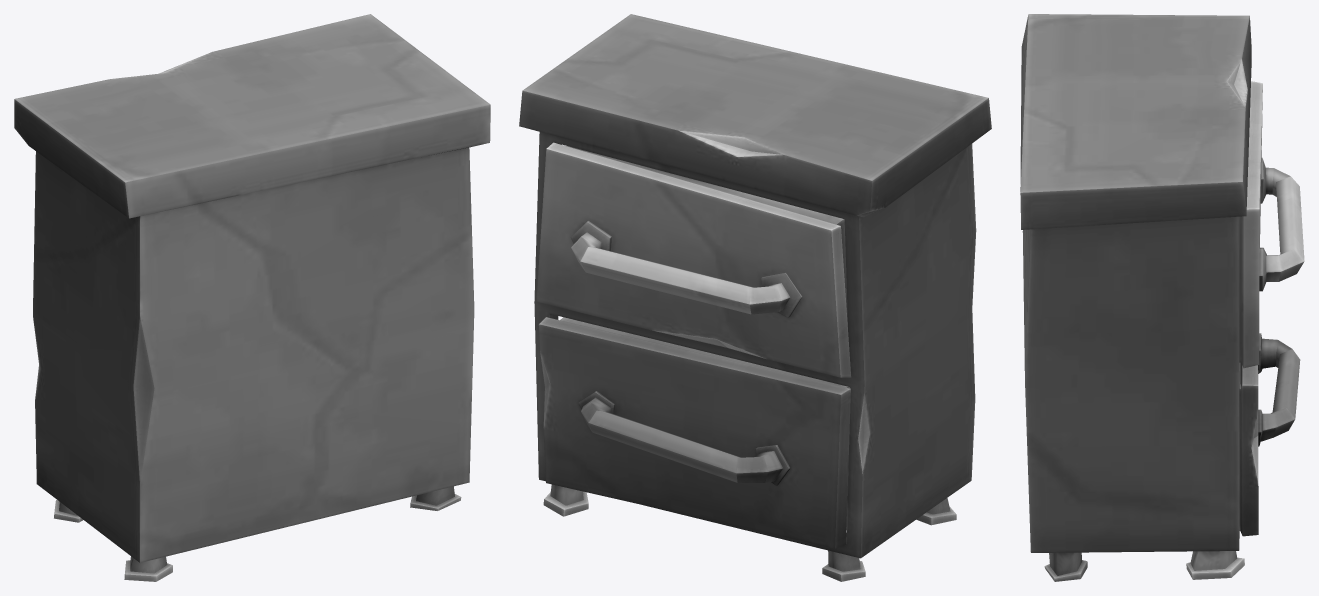
File: obj_dresser01_alt.gltf
3 renders of one model, left to right at view 1: azimuth 30°, elevation 25°; view 2: azimuth 150°, elevation 25°; view 3: azimuth 270°, elevation 25°, orthographic. The views are drawn at different scales.
Visible parts, largest first — view 1: obj_dresser01_alt; view 2: obj_dresser01_alt; view 3: obj_dresser01_alt.
Part boxes in pixels (box(x1,y1,x2,y2)): obj_dresser01_alt: box(14, 14, 490, 581); obj_dresser01_alt: box(519, 14, 991, 581); obj_dresser01_alt: box(1020, 14, 1304, 581).
Size of what is drawn, in the model's own units: 0.9375 by 1.03 by 0.6555.
Materials: 1 (1 with a texture image).
